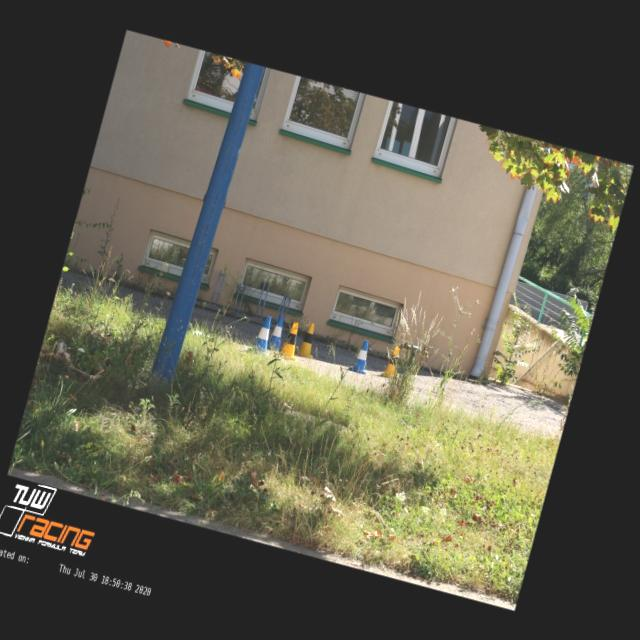blue_cone: (246, 312, 280, 358), (262, 312, 292, 354), (347, 336, 375, 374)
yellow_cone: (276, 320, 307, 362), (292, 319, 320, 359), (379, 344, 405, 381)
